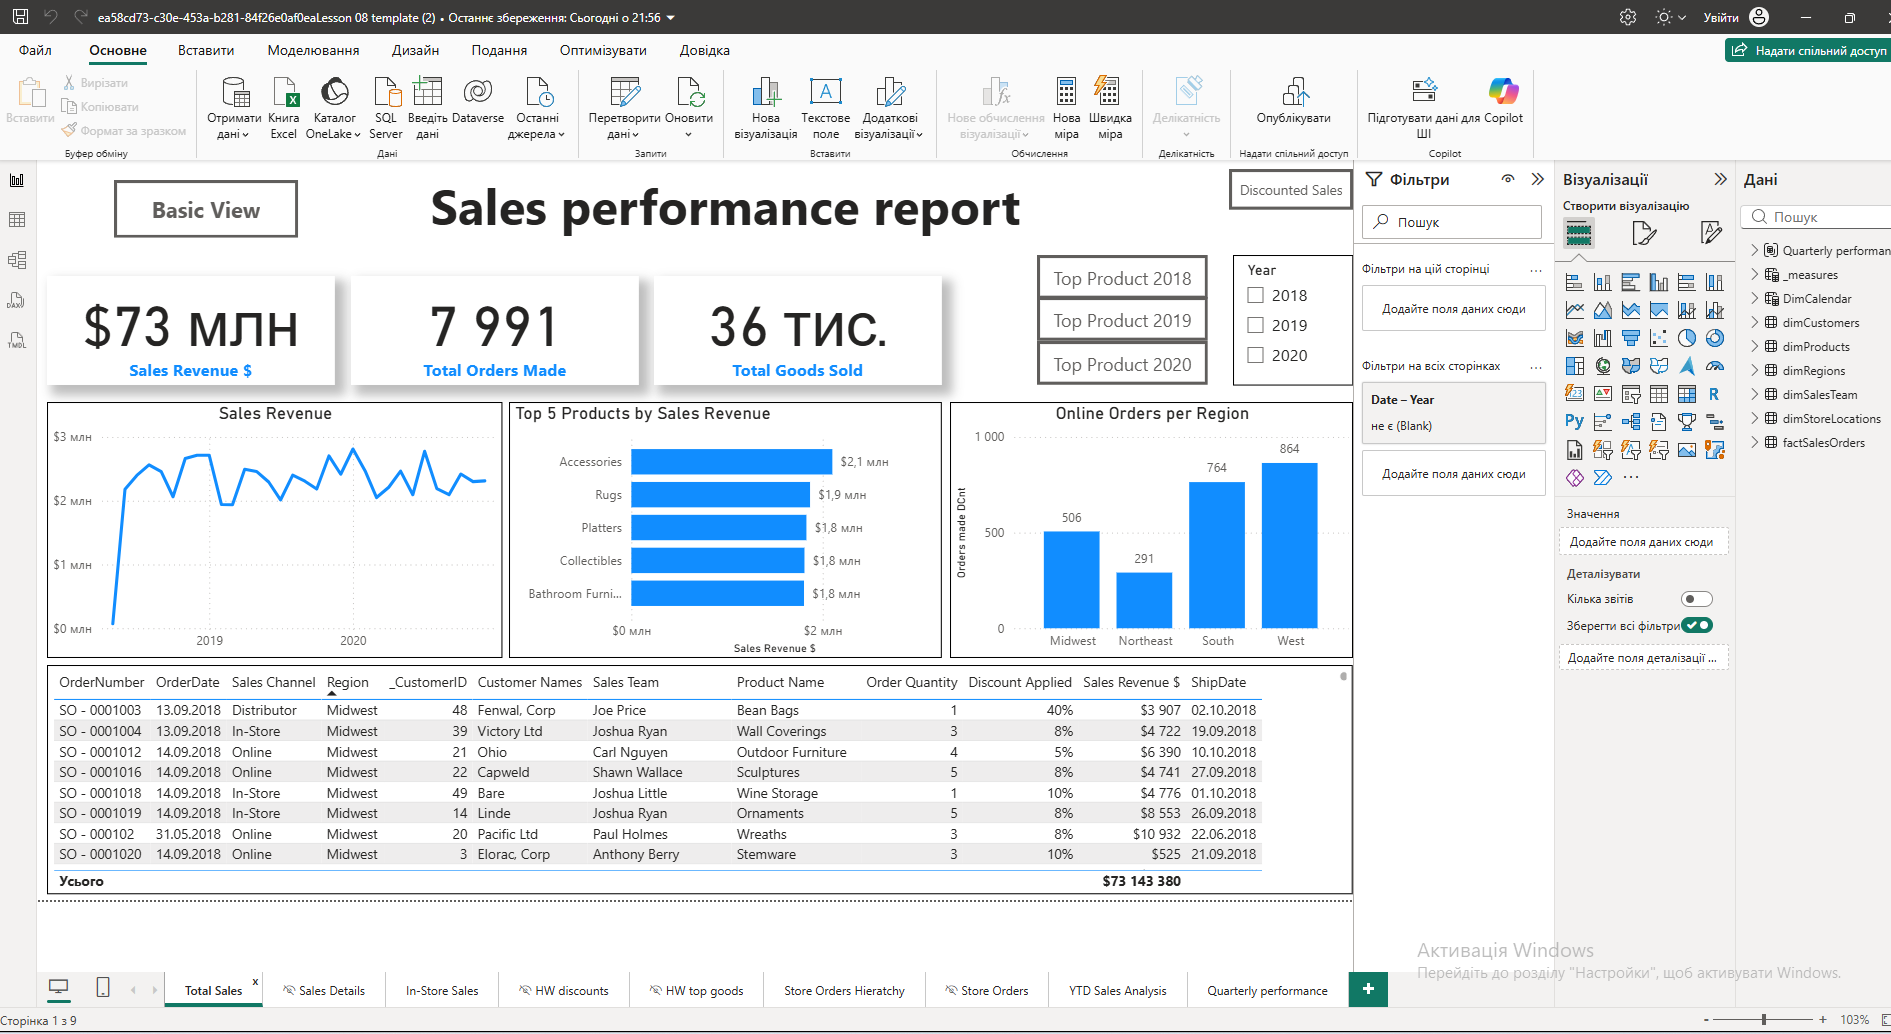

What the dashboard file says about the page in this screenshot:
{"tool":"powerbi","page":{"name":"Sales Details","canvas":[1280,720],"ordinal":1},"visuals":[{"type":"card","fields":{"Values":["_measures.Orders Revenue $"]},"box":[10,5.4,279.8,106],"z":0},{"type":"card","fields":{"Values":["_measures.Orders made QCnt"]},"box":[10,120.5,279.8,106],"z":1000},{"type":"tableEx","fields":{"Values":["factSalesOrders.OrderNumber","factSalesOrders.OrderDate","factSalesOrders.Sales Channel","dimRegions.Region","dimCustomers._CustomerID","dimCustomers.Customer Names","dimSalesTeam.Sales Team","dimProducts.Product Name","factSalesOrders.Order Quantity","factSalesOrders.Discount Applied","_measures.Orders Revenue $","factSalesOrders.ShipDate"]},"box":[316.1,120.5,963.6,599.5],"z":2000},{"type":"slicer","fields":{"Values":["DimCalendar.Date.Variation.Date Hierarchy.Year"]},"box":[1162.9,0,116.8,120.5],"z":3000},{"type":"clusteredColumnChart","title":"Online Orders per Region","fields":{"Category":["dimRegions.Region Hierarchy.Region","dimRegions.Region Hierarchy.State"],"Y":["_measures.Orders made DCnt"]},"box":[10,540.7,279.8,179.3],"z":4000},{"type":"lineChart","title":"Sales Revenue","fields":{"Category":["DimCalendar.Date.Variation.Date Hierarchy.Year","DimCalendar.Date.Variation.Date Hierarchy.Quarter","DimCalendar.Date.Variation.Date Hierarchy.Month","DimCalendar.Date.Variation.Date Hierarchy.Day"],"Y":["_measures.Orders Revenue $"]},"box":[10,347.8,279.8,185.7],"z":5000},{"type":"textbox","box":[366.8,5.4,605.9,86.9],"z":6000},{"type":"card","fields":{"Values":["_measures.Goods Sold Qnt"]},"box":[10,232.8,279.8,106],"z":7000},{"type":"actionButton","box":[0,0,100,40],"z":8000}]}

Visuals, with their boxes on the page's 1280x720 design canvas (x1, y1, x2, y2). These are canvas units, not pixel positions in the 1891x1034 screenshot, which may show the page scaled, cropped or inside an application window:
card - _measures.Orders Revenue $: region(10, 5, 290, 111)
card - _measures.Orders made QCnt: region(10, 120, 290, 226)
tableEx - factSalesOrders.OrderNumber x factSalesOrders.OrderDate: region(316, 120, 1280, 720)
slicer - DimCalendar.Date.Variation.Date Hierarchy.Year: region(1163, 0, 1280, 120)
"Online Orders per Region" clusteredColumnChart: region(10, 541, 290, 720)
"Sales Revenue" lineChart: region(10, 348, 290, 534)
textbox: region(367, 5, 973, 92)
card - _measures.Goods Sold Qnt: region(10, 233, 290, 339)
actionButton: region(0, 0, 100, 40)
